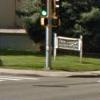Tree: (62, 0, 100, 59)
